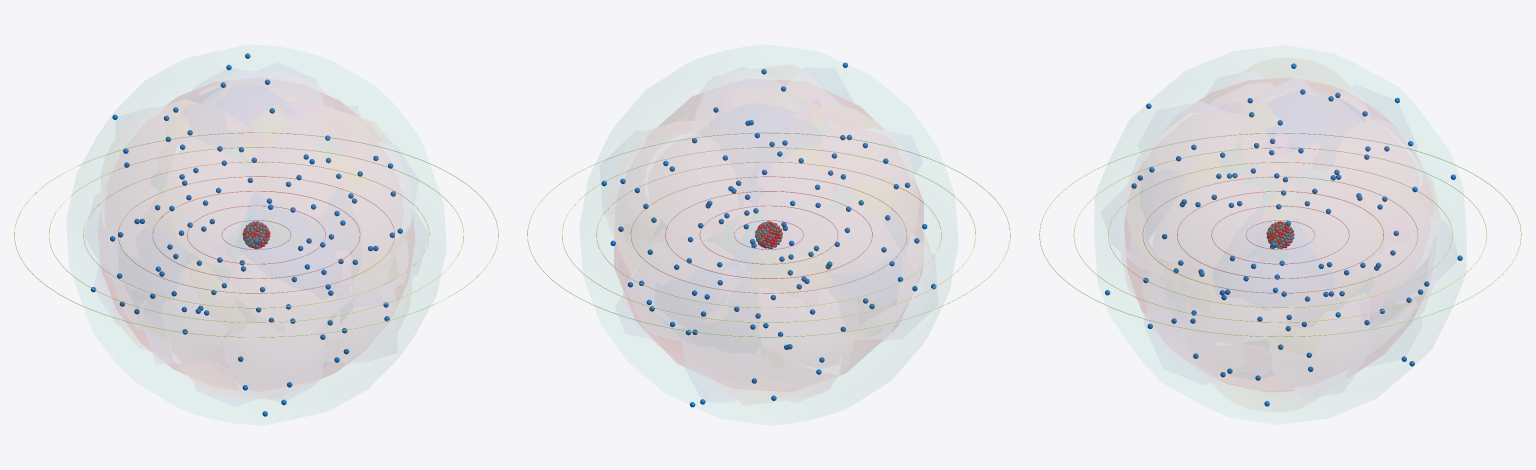
The picture shows the model from 3 angles, left to right: view 1: azimuth 30°, elevation 25°; view 2: azimuth 150°, elevation 25°; view 3: azimuth 270°, elevation 25°; orthographic projection.
Visible parts, largest first — view 1: Orbital_5s_0, Nivel_n7, Nivel_n6, Nivel_n5, Nivel_n4, Nivel_n3; view 2: Orbital_5s_0, Nivel_n7, Nivel_n6, Nivel_n5, Nivel_n4, Nivel_n3; view 3: Orbital_5s_0, Nivel_n7, Nivel_n6, Nivel_n5, Nivel_n4, Nivel_n3.
Boxes of the visible parts, x1,y1,x2,y2 form: Orbital_5s_0: [102, 81, 414, 377]; Nivel_n7: [14, 132, 498, 337]; Nivel_n6: [48, 147, 464, 322]; Nivel_n5: [83, 161, 429, 308]; Nivel_n4: [118, 176, 394, 293]; Nivel_n3: [152, 191, 360, 278]; Orbital_5s_0: [614, 80, 923, 374]; Nivel_n7: [527, 132, 1010, 337]; Nivel_n6: [561, 147, 976, 322]; Nivel_n5: [596, 162, 941, 307]; Nivel_n4: [630, 176, 907, 293]; Nivel_n3: [665, 191, 872, 278]; Orbital_5s_0: [1124, 78, 1425, 391]; Nivel_n7: [1039, 133, 1521, 336]; Nivel_n6: [1073, 147, 1487, 322]; Nivel_n5: [1108, 162, 1452, 307]; Nivel_n4: [1142, 176, 1418, 293]; Nivel_n3: [1177, 191, 1383, 278].
Bounding box in the file's own units: 2.1 × 1.92 × 2.1.
